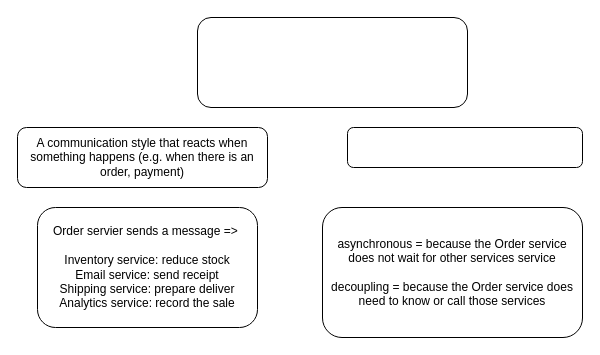
Some shapes in this 600 by 355 pixel diagram are drawn without their labels. The centre of each missing label's shape, as x and y in pixels:
"Event-driven architecture => asynchronous decoupling" goes at (464,147).
"Event-Driven Architecture and Asynchronous Decoupling" goes at (332,62).
